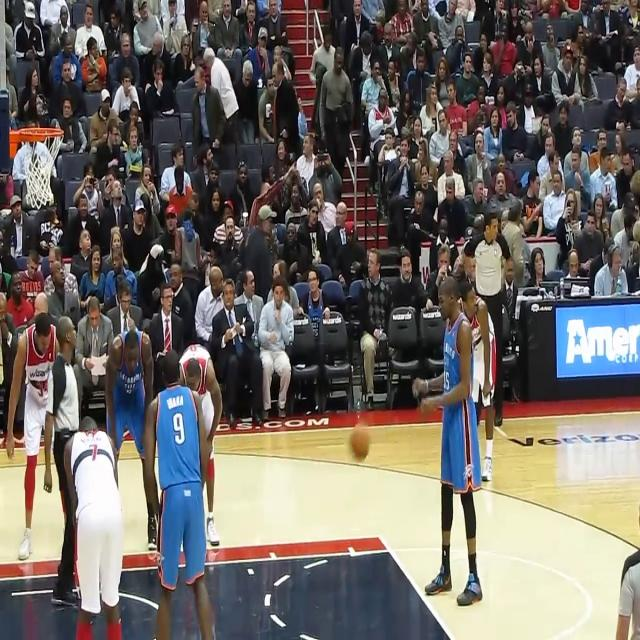ball: (350, 424, 371, 463)
